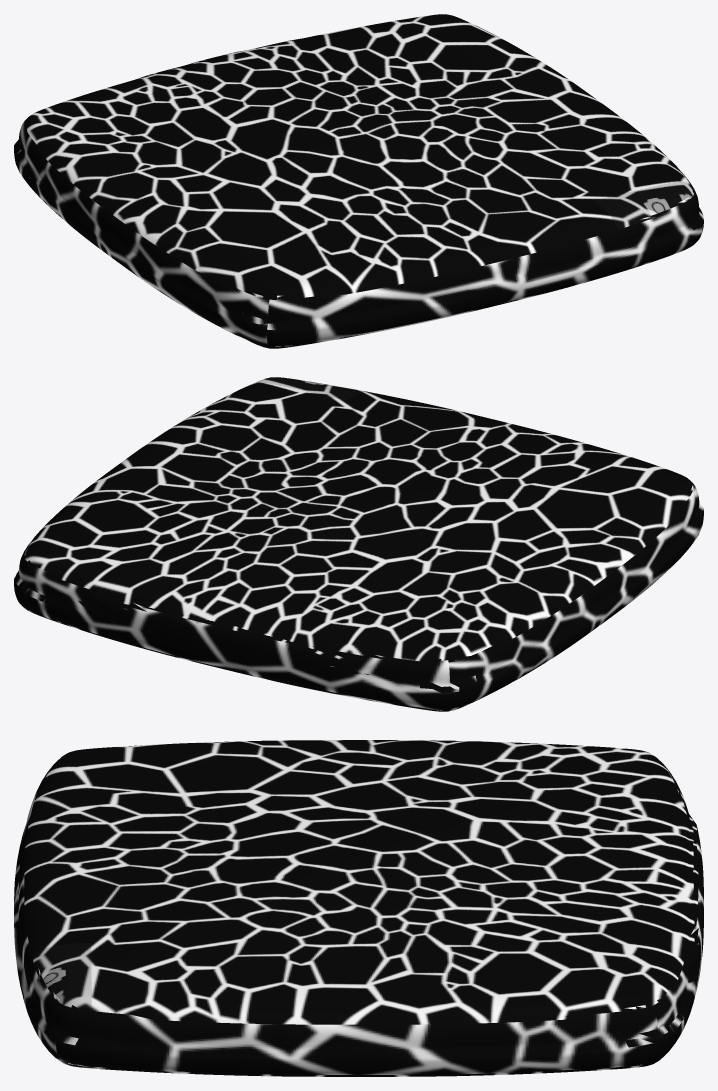
Rendered from box_lid_zebra.gltf.
3 views of the same model, one above another, from view 1: azimuth 30°, elevation 25°; view 2: azimuth 150°, elevation 25°; view 3: azimuth 270°, elevation 25° (orthographic). The views are drawn at different scales.
Visible parts, largest first — view 1: 001_Cube.002; view 2: 001_Cube.002; view 3: 001_Cube.002.
Part boxes in pixels (box(x1,y1,x2,y2)): 001_Cube.002: box(14, 14, 703, 348); 001_Cube.002: box(14, 377, 703, 711); 001_Cube.002: box(14, 740, 703, 1076).
Bounding box in the file's own units: 0.4835 × 0.0664 × 0.4835.
1 material, 1 textured.
